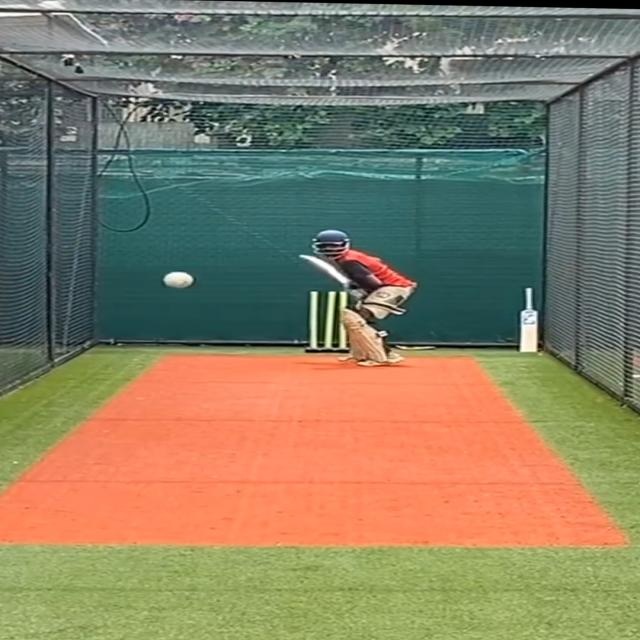ball: (158, 268, 196, 292)
stump: (303, 289, 357, 356)
